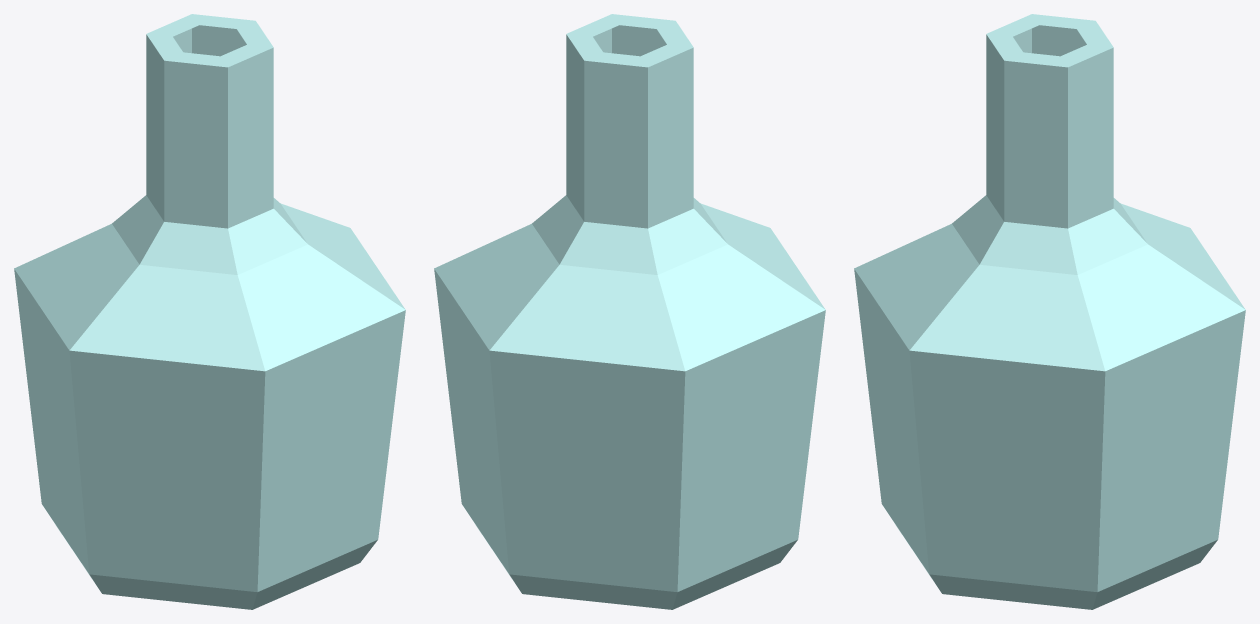
File: 002_Large_Glass_Vial-Model.fbx
3 renders of one model, left to right at view 1: azimuth 30°, elevation 25°; view 2: azimuth 150°, elevation 25°; view 3: azimuth 270°, elevation 25°, orthographic.
Visible parts, largest first — view 1: Vial_Glass1; view 2: Vial_Glass1; view 3: Vial_Glass1.
Boxes of the visible parts, <box> form: Vial_Glass1: <box>14,14,405,609</box>; Vial_Glass1: <box>434,14,825,609</box>; Vial_Glass1: <box>854,14,1245,609</box>.
Bounding box in the file's own units: 0.7649 × 1.1 × 0.7714.
